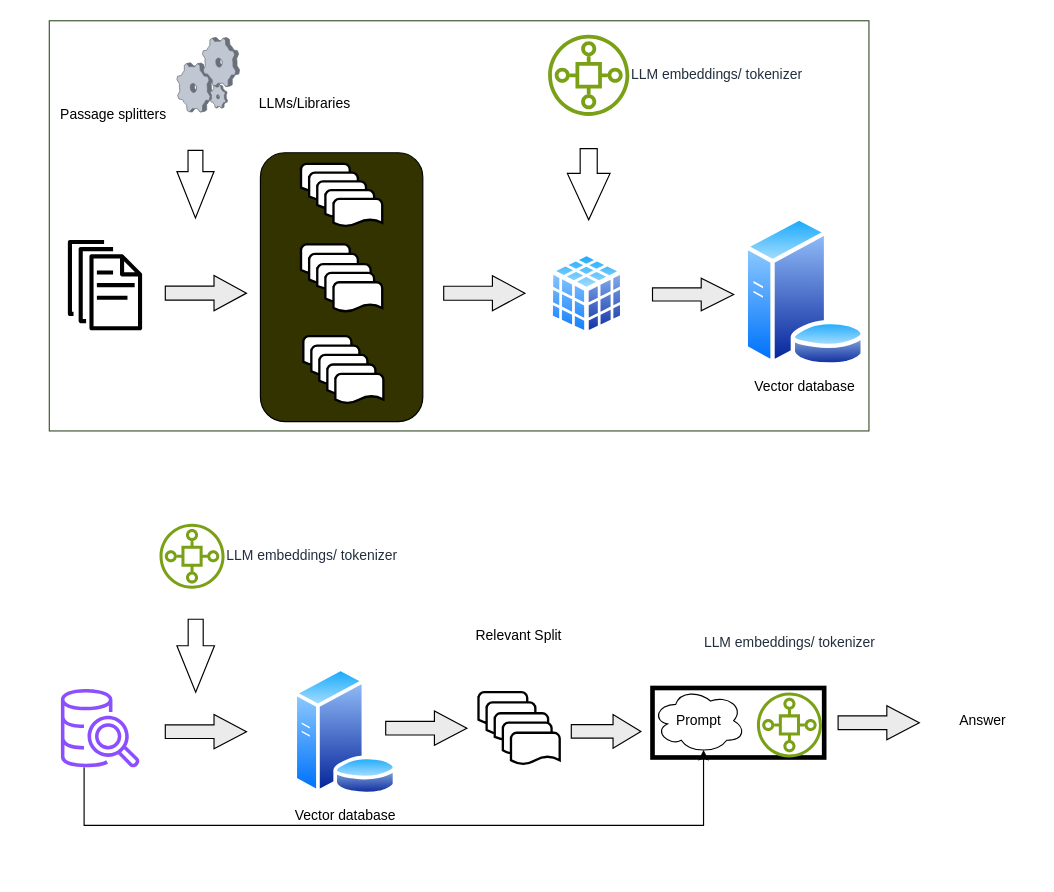
The diagram is 1054 pixels wide and 892 high, and some of its shapes have lost their labels. The centre of each missing label's shape, as x and y in pixels:
PDFS: the point at 104,284
Query: the point at 99,727
Vectorized data: the point at 586,293
